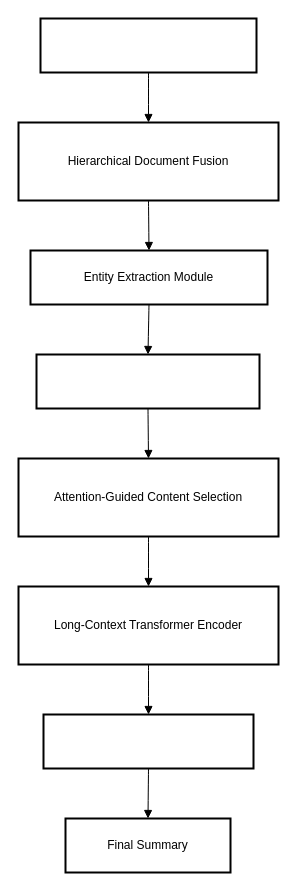
Image size: 296x890. Some labels were removed from this diagram. The shapes that lost their labels are listed below. From the top down, each one's centre as x and y in pixels, then its label:
At point 148,45: "Multi-Document Input".
At point 147,381: "Entity Salience Scoring".
At point 148,741: "Transformer Decoder".
